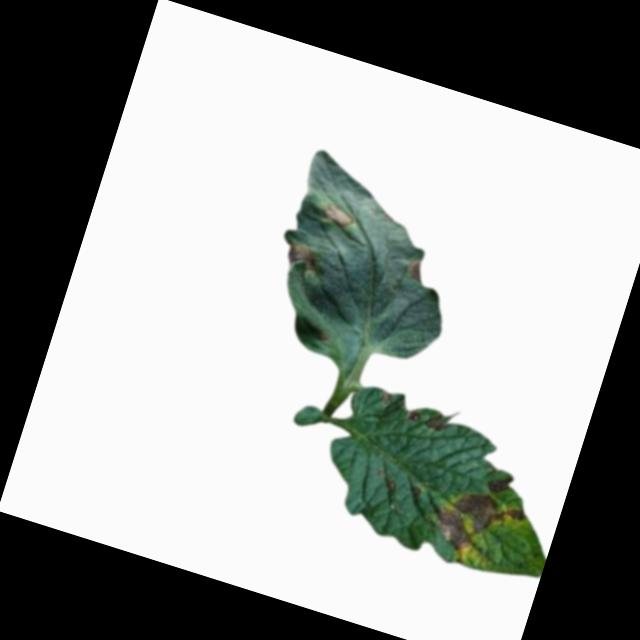Early_blight: (425, 481, 527, 567), (283, 238, 325, 276), (321, 201, 356, 228), (422, 410, 454, 436), (484, 472, 515, 497), (406, 258, 428, 282), (403, 406, 421, 422), (386, 476, 399, 493)
